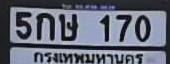0: (134, 14, 150, 41)
1: (99, 14, 108, 41)
5: (15, 11, 31, 38)
7: (115, 14, 131, 41)
A01: (35, 12, 54, 39)
A39: (58, 12, 77, 40)
BKK: (30, 50, 145, 64)
